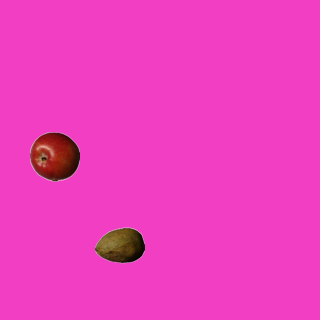Apple Braeburn: (29, 131, 79, 181)
Papaya: (94, 220, 144, 270)
